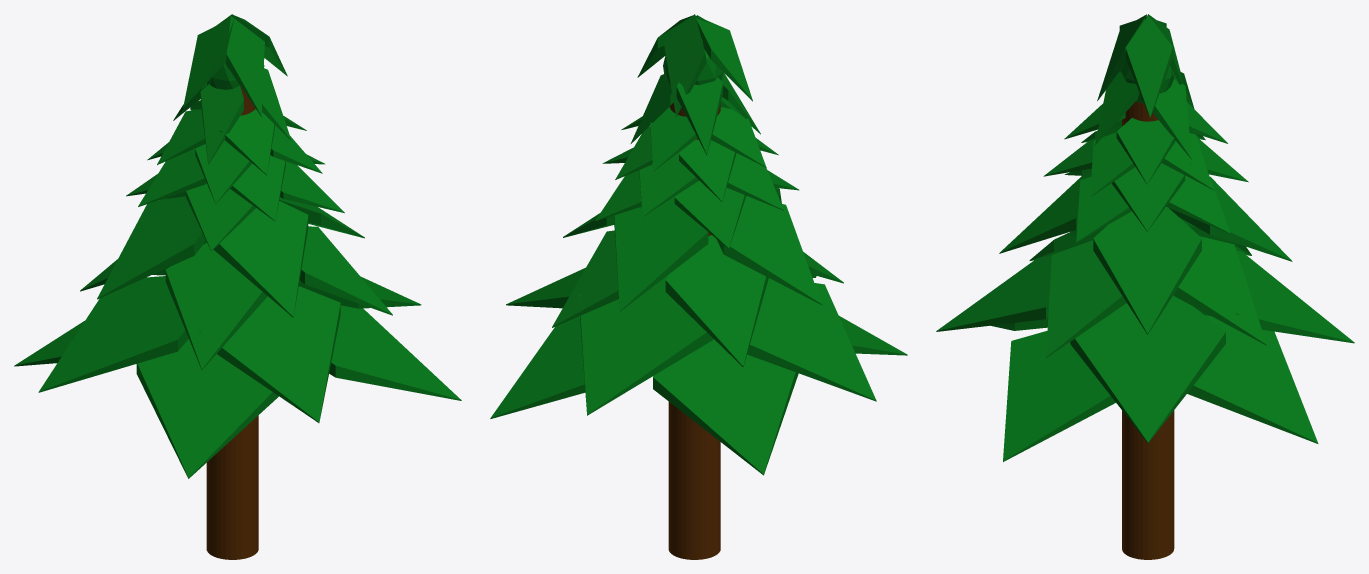
File: arvore1.fbx
3 views of the same model, side by side, from view 1: azimuth 30°, elevation 25°; view 2: azimuth 150°, elevation 25°; view 3: azimuth 270°, elevation 25° (orthographic).
Parts seen in each view (by area): view 1: Icosphere; view 2: Icosphere; view 3: Icosphere.
Part boxes in pixels (x1,y1,x2,y2): Icosphere: (14, 14, 461, 559); Icosphere: (490, 14, 907, 559); Icosphere: (936, 14, 1354, 559).
Bounding box in the file's own units: 1665 × 2260 × 1602.
